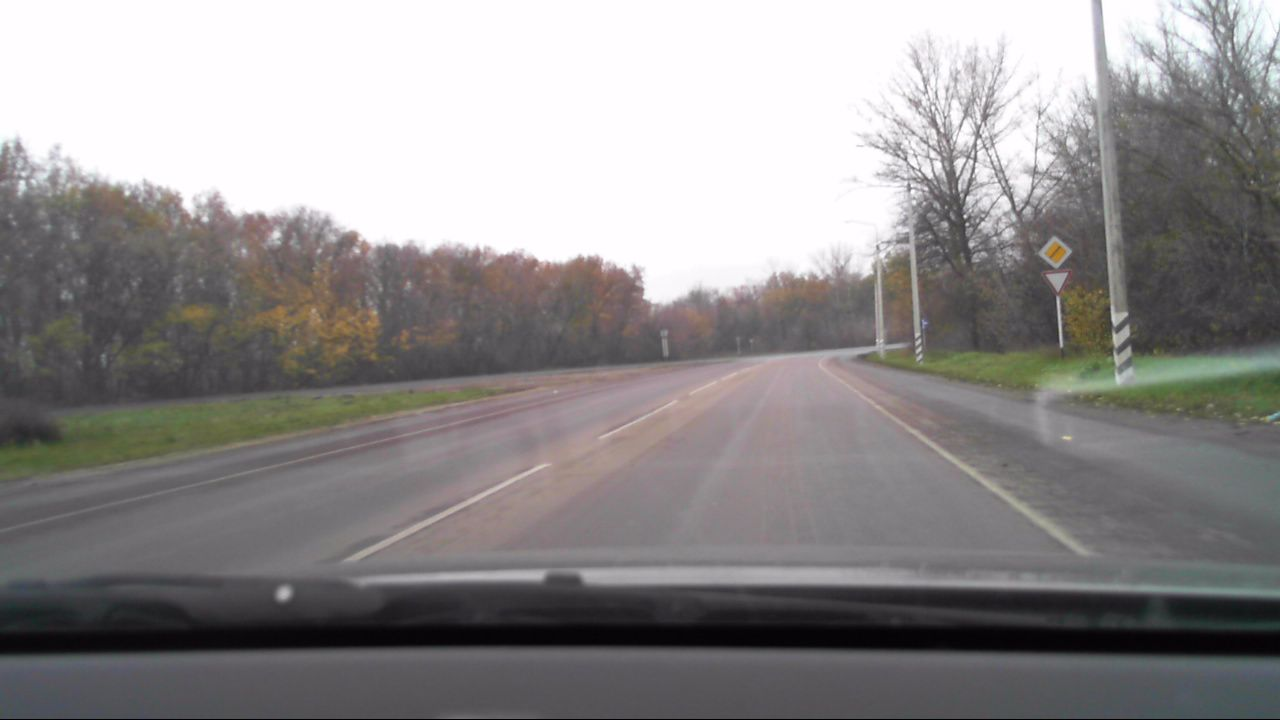main road: (1034, 236, 1072, 268)
